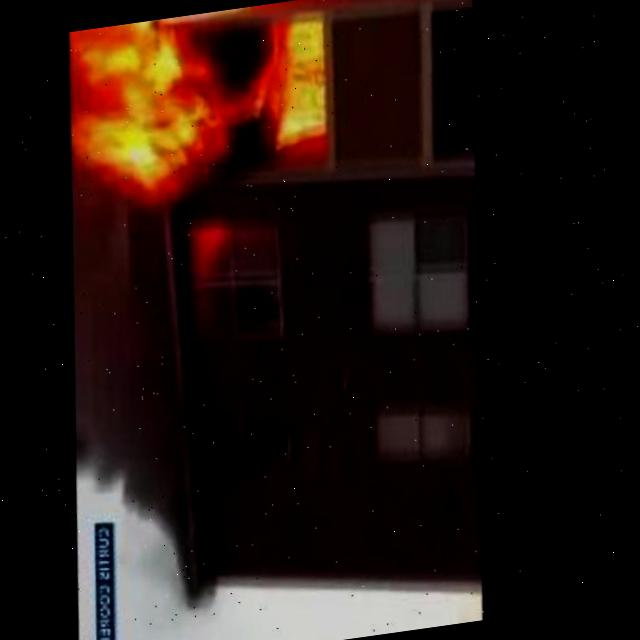fire: (46, 0, 348, 233)
